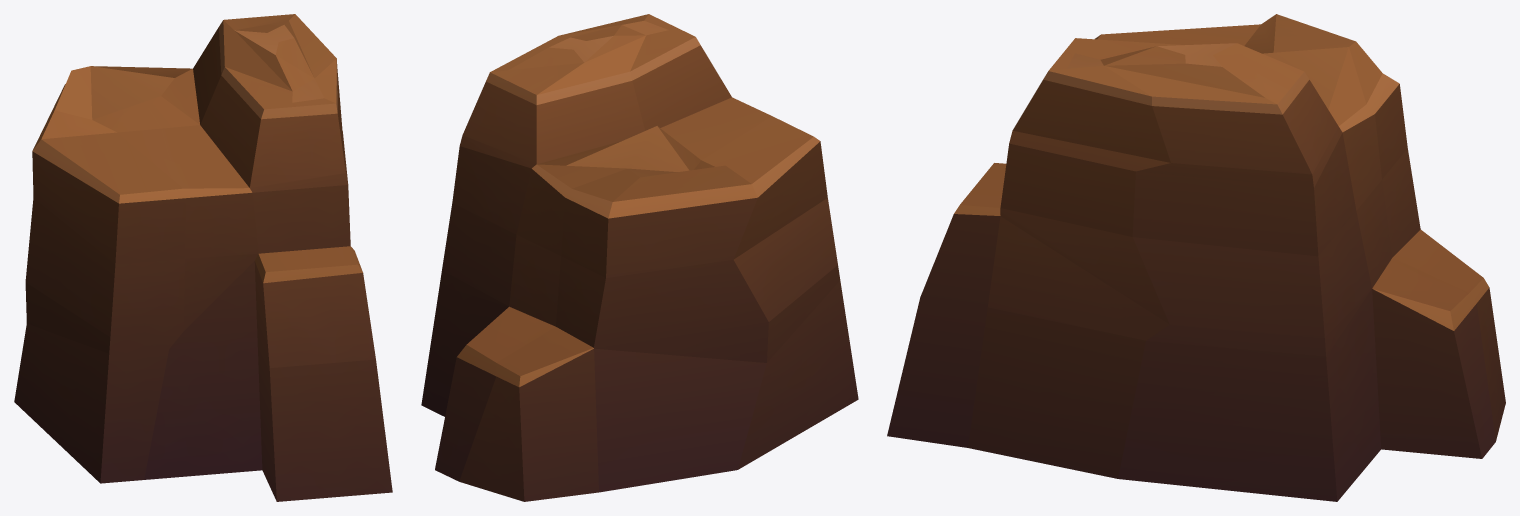
File: Rock02.fbx
3 views of the same model, side by side, from view 1: azimuth 30°, elevation 25°; view 2: azimuth 150°, elevation 25°; view 3: azimuth 270°, elevation 25° (orthographic). The views are drawn at different scales.
Visible parts, largest first — view 1: Rock02; view 2: Rock02; view 3: Rock02.
Part boxes in pixels (x1,y1,x2,y2): Rock02: [14, 14, 392, 501]; Rock02: [421, 14, 858, 501]; Rock02: [887, 14, 1505, 501].
Bounding box in the file's own units: 385 × 389 × 557.
